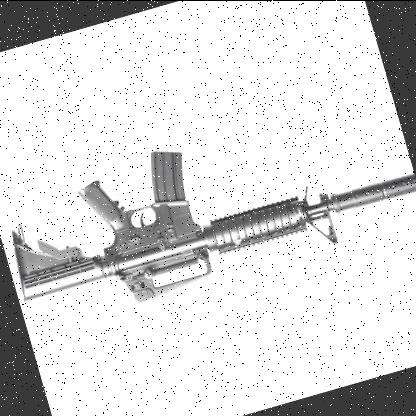rifle: (0, 69, 416, 341)
